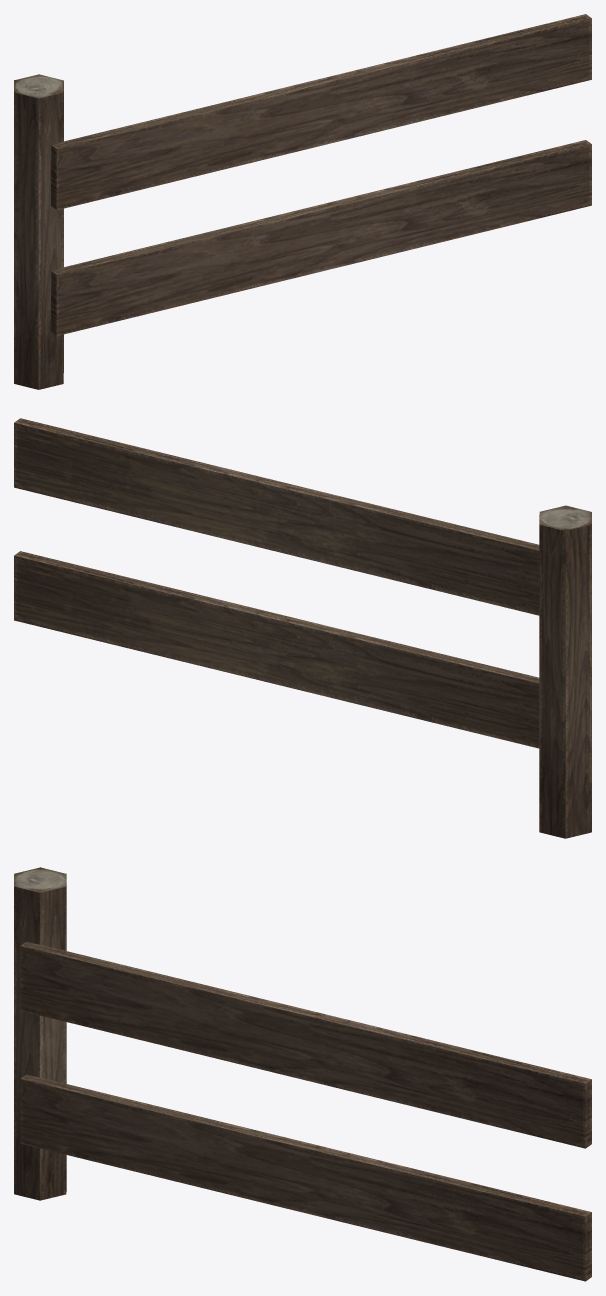
Rendered from Forest.Fence_1.fbx.
3 views of the same model, one above another, from view 1: azimuth 30°, elevation 25°; view 2: azimuth 150°, elevation 25°; view 3: azimuth 330°, elevation 25° (orthographic). The views are drawn at different scales.
Visible parts, largest first — view 1: Forest.Fence_1; view 2: Forest.Fence_1; view 3: Forest.Fence_1.
Part boxes in pixels (x1,y1,x2,y2): Forest.Fence_1: (14,14,591,389); Forest.Fence_1: (14,418,591,838); Forest.Fence_1: (14,867,591,1281).
Size of the model in its own units: 157 by 78.03 by 14.92.
